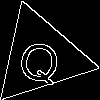Q: (15, 31, 65, 87)
